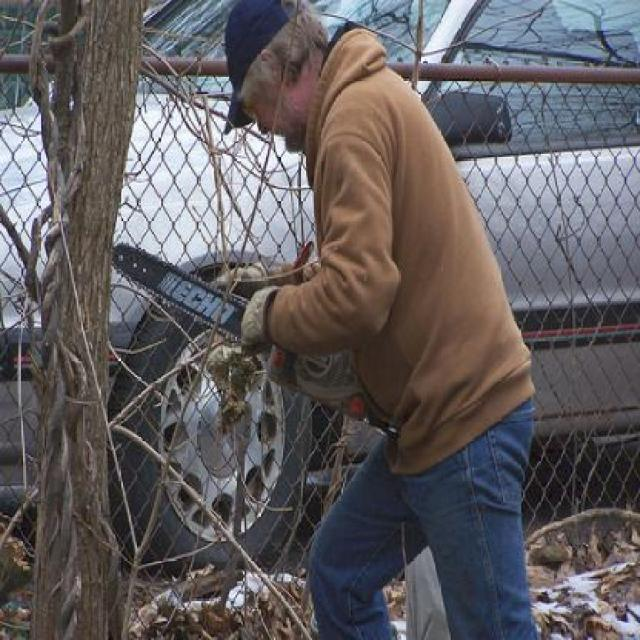Chainsaw: (104, 220, 365, 429)
